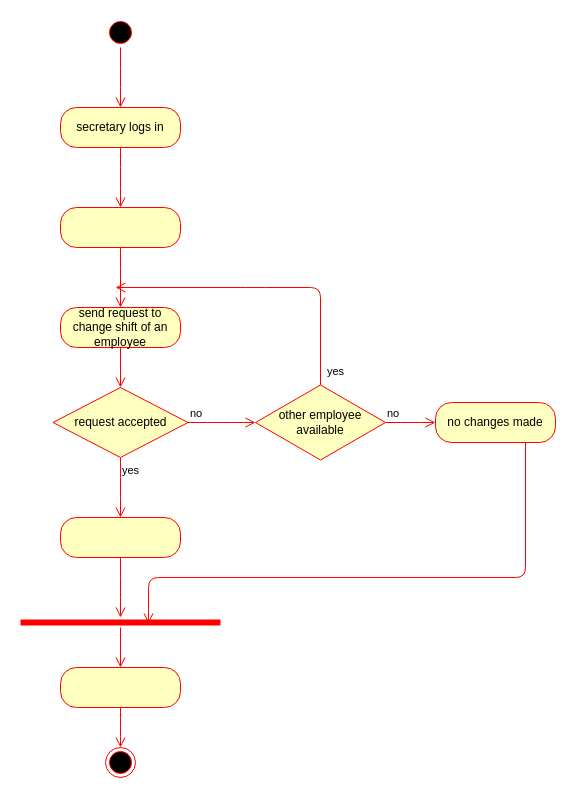
Some shapes in this 573 by 795 pixel diagram are drawn without their labels. Here are the shapes that lost their labels. From the top down, the box of each, then its label:
(60, 206, 180, 248): views shifts of employees
(60, 516, 180, 558): shift time is changed
(60, 666, 180, 708): main page
